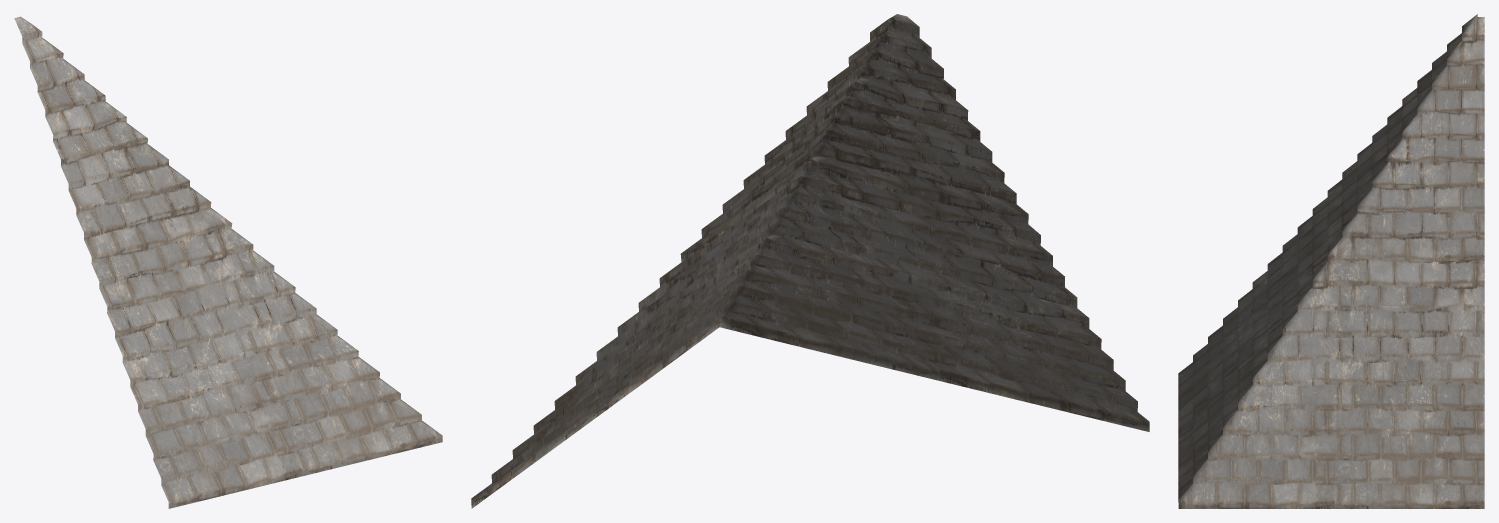
Rendered from SM_Roof01_4_LOD0.glb.
3 views of the same model, side by side, from view 1: azimuth 30°, elevation 25°; view 2: azimuth 150°, elevation 25°; view 3: azimuth 270°, elevation 25° (orthographic). The views are drawn at different scales.
Visible parts, largest first — view 1: SM_Roof01_4_LOD0; view 2: SM_Roof01_4_LOD0; view 3: SM_Roof01_4_LOD0.
Boxes of the visible parts, x1,y1,x2,y2 form: SM_Roof01_4_LOD0: (14,16,442,508); SM_Roof01_4_LOD0: (471,14,1149,508); SM_Roof01_4_LOD0: (1178,14,1484,508).
Size of the model in its own units: 4.1 by 5.4 by 4.1.
Materials: 1 (1 with a texture image).
